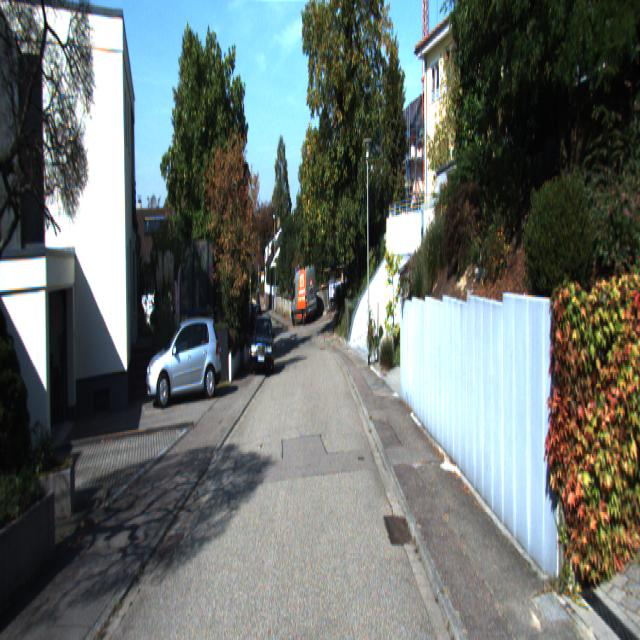Car: (145, 316, 223, 411), (290, 267, 318, 327), (250, 315, 276, 376)
